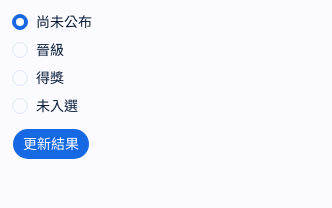
Test case: ResultSelect：比賽結果選單與確認對話框 › 儲存失敗時顯示錯誤訊息
What coordinates should you click on to do the following:
click the radio button "晉級"
I would click on:
 (38, 50)
Its box is [12,42,64,58].
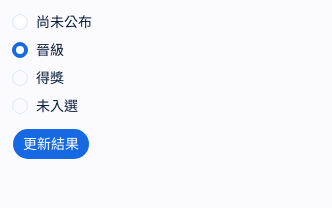
What coordinates should you click on to do the following:
click the button "更新結果"
I would click on:
 (51, 144)
Its box is [12,128,90,160].
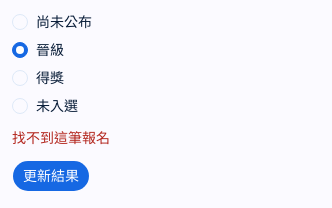
Expected: the text "找不到這筆報名" is shown, [12,130,110,146]
